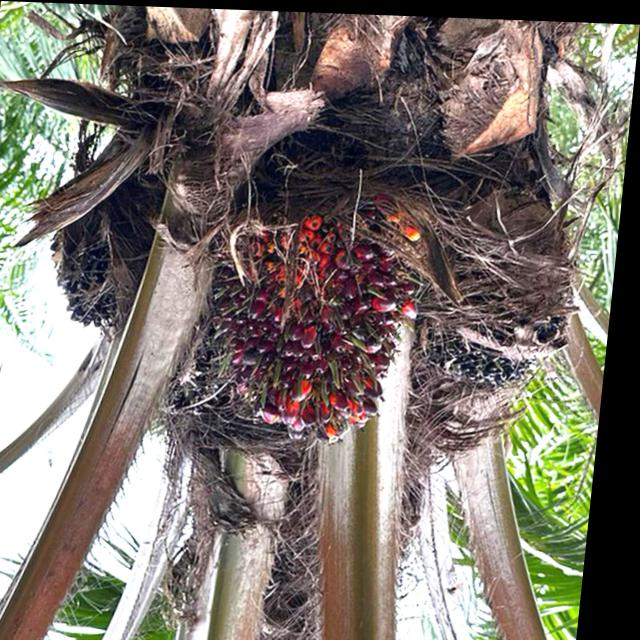ripe: (203, 193, 432, 444), (422, 277, 575, 390), (41, 209, 169, 337)
